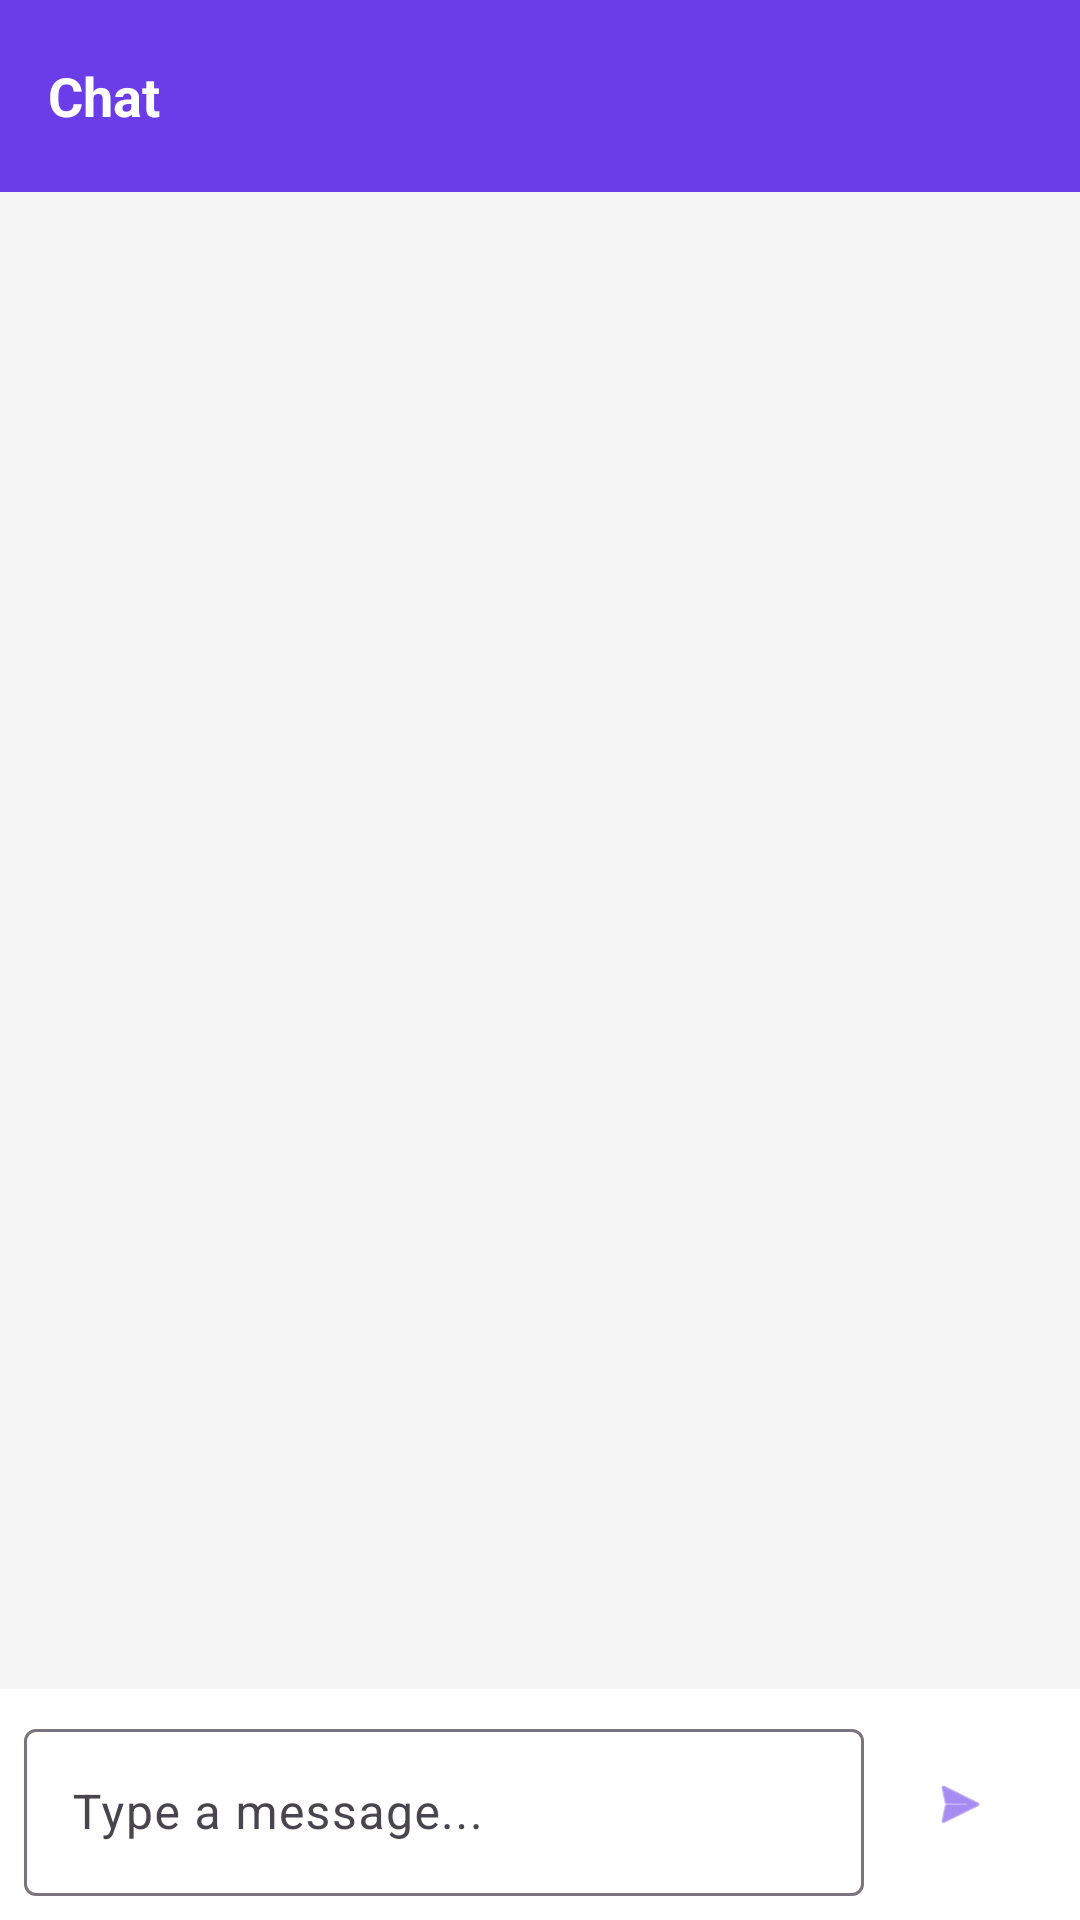

Icon bounding boxes for this 1080px×1920px phone screenshot, format (x1, y1, x2, y2):
send: (941, 1785, 980, 1823)
